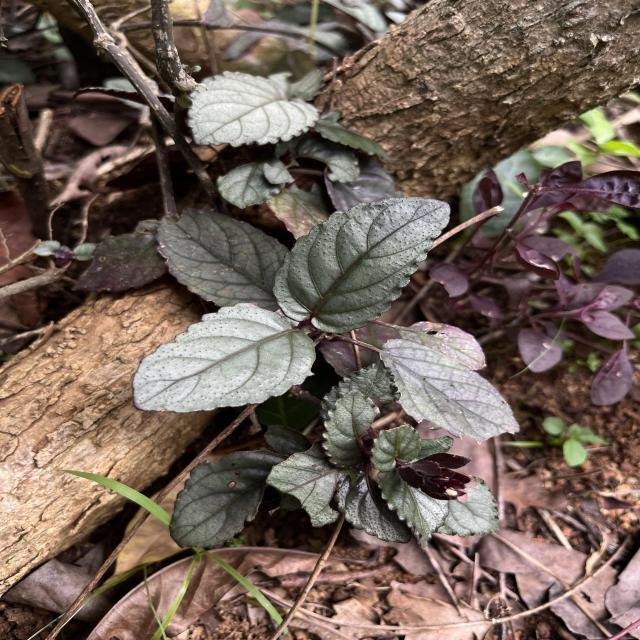Hemigraphis colorata: (270, 192, 455, 336), (128, 297, 324, 417), (376, 331, 524, 448), (150, 202, 294, 310), (180, 66, 324, 150)
